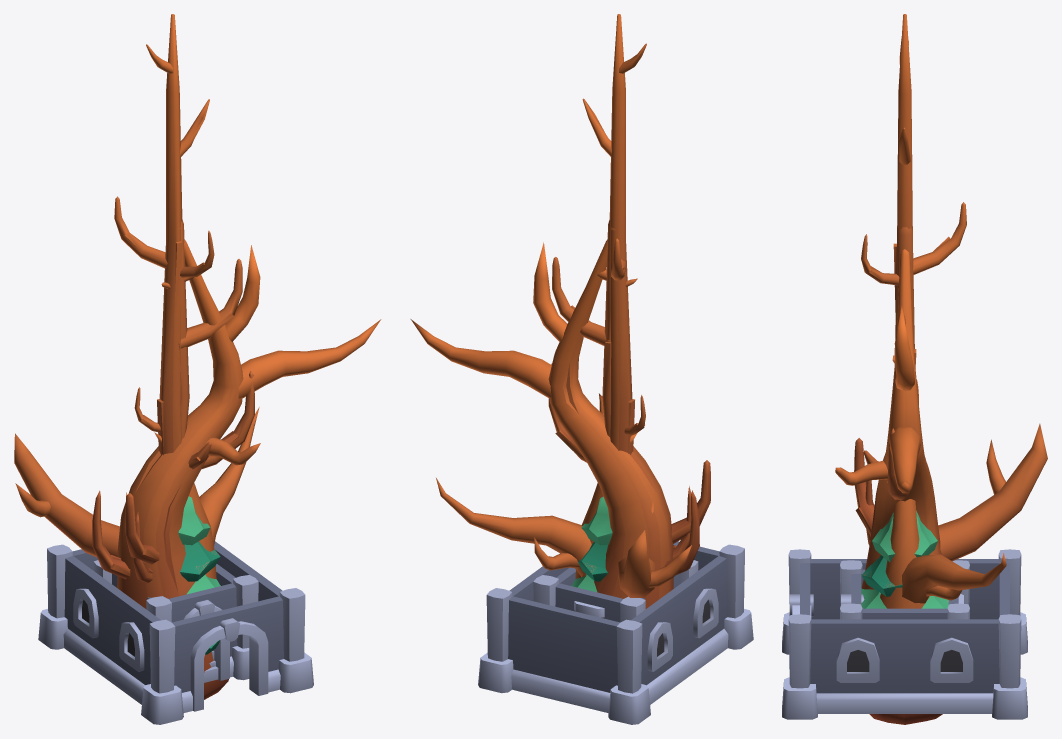
File: volcano.glb
The picture shows the model from 3 angles, left to right: view 1: azimuth 30°, elevation 25°; view 2: azimuth 150°, elevation 25°; view 3: azimuth 270°, elevation 25°; orthographic projection. The views are drawn at different scales.
Visible parts, largest first — view 1: crypt-large, Tree_Bare_1_C_Color1, Tree_Bare_2_C_Color1, crypt-small, Tree_Bare_2_B_Color1, Tree_Bare_1_B_Color1, pine-crooked, Tree_Bare_2_A_Color1; view 2: crypt-large, Tree_Bare_1_C_Color1, Tree_Bare_2_C_Color1, Tree_Bare_1_B_Color1, crypt-small, Tree_Bare_2_B_Color1, pine-crooked, Tree_Bare_1_A_Color1, Tree_Bare_2_A_Color1; view 3: crypt-large, Tree_Bare_1_C_Color1, Tree_Bare_2_C_Color1, Tree_Bare_1_B_Color1, crypt-small, pine-crooked, Tree_Bare_2_B_Color1.
Part boxes in pixels (x1,y1,x2,y2): crypt-large: (38, 541, 313, 724); Tree_Bare_1_C_Color1: (14, 239, 381, 699); Tree_Bare_2_C_Color1: (114, 14, 242, 564); crypt-small: (93, 560, 258, 680); Tree_Bare_2_B_Color1: (92, 219, 254, 579); Tree_Bare_1_B_Color1: (189, 407, 259, 579); pine-crooked: (178, 496, 220, 654); Tree_Bare_2_A_Color1: (133, 387, 160, 582); crypt-large: (478, 541, 753, 724); Tree_Bare_1_C_Color1: (410, 239, 691, 608); Tree_Bare_2_C_Color1: (552, 14, 710, 543); Tree_Bare_1_B_Color1: (436, 478, 603, 578); crypt-small: (533, 560, 698, 622); Tree_Bare_2_B_Color1: (548, 220, 699, 575); pine-crooked: (571, 496, 612, 592); Tree_Bare_1_A_Color1: (534, 433, 653, 570); Tree_Bare_2_A_Color1: (624, 395, 691, 558); crypt-large: (782, 549, 1027, 719); Tree_Bare_1_C_Color1: (835, 249, 1047, 724); Tree_Bare_2_C_Color1: (854, 14, 966, 536); Tree_Bare_1_B_Color1: (880, 499, 1006, 608); crypt-small: (840, 560, 969, 619); pine-crooked: (861, 511, 948, 608); Tree_Bare_2_B_Color1: (861, 227, 916, 499).
Bounding box in the file's own units: 3.74 × 7.61 × 2.6.
7 materials, 2 textured.
